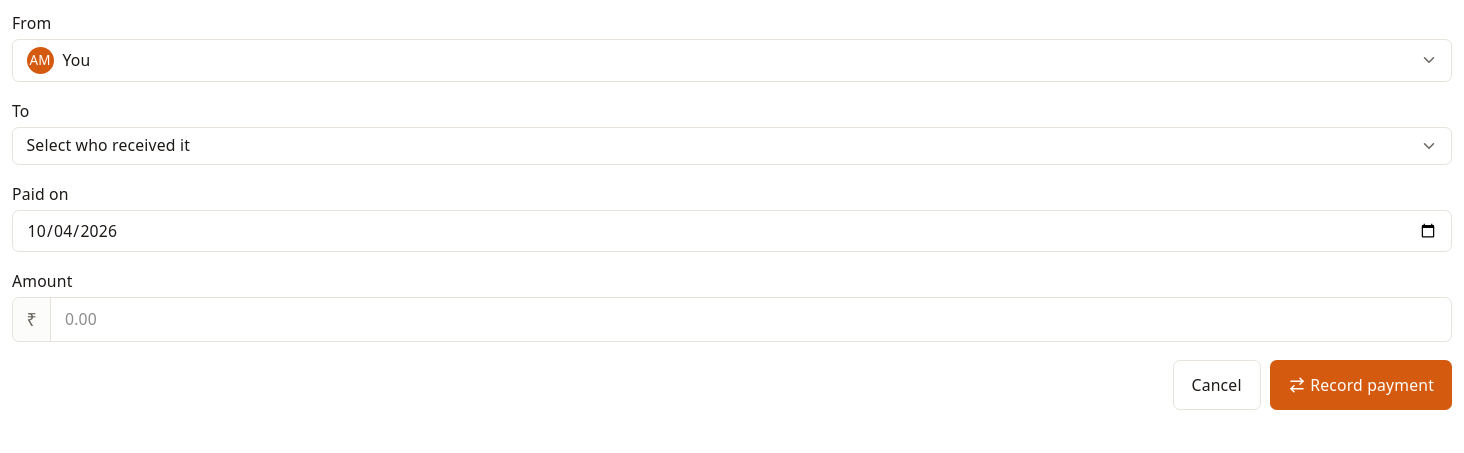
Test: RecordPaymentForm › rejects amounts with unsupported currency precision
Click the button with aria-label "To".
click(108, 145)  # box [12,126,1452,164]
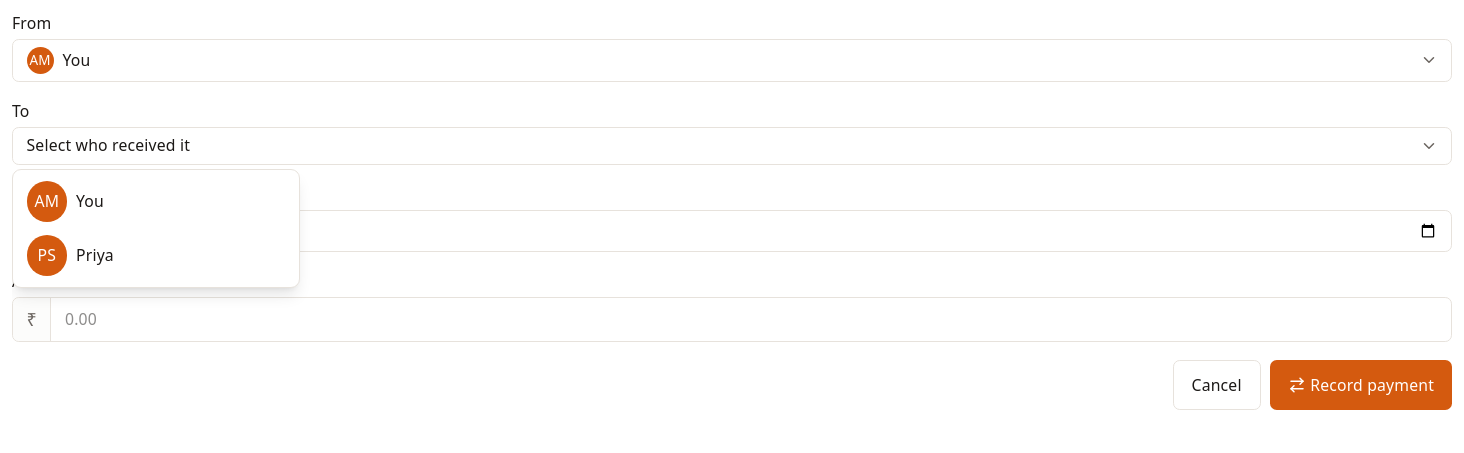
Click the menu item with aria-label "priya sharma".
click(47, 256)  # box [26,235,114,276]
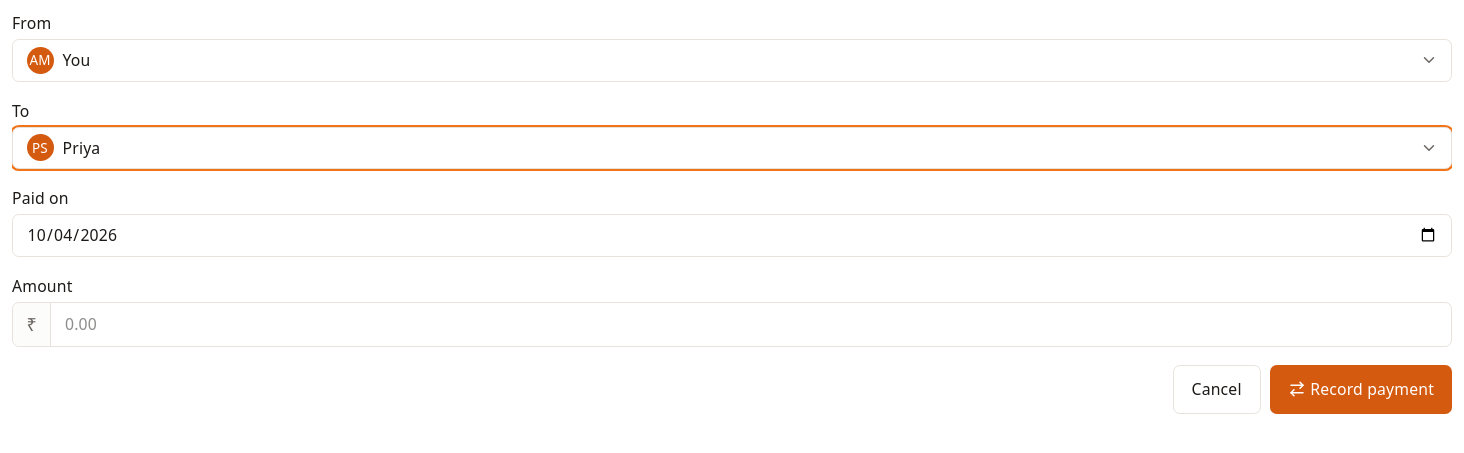
Type "1.001" into the number field labelled "Amount".
click(751, 324); type("1.001")  # box [52,302,1451,346]
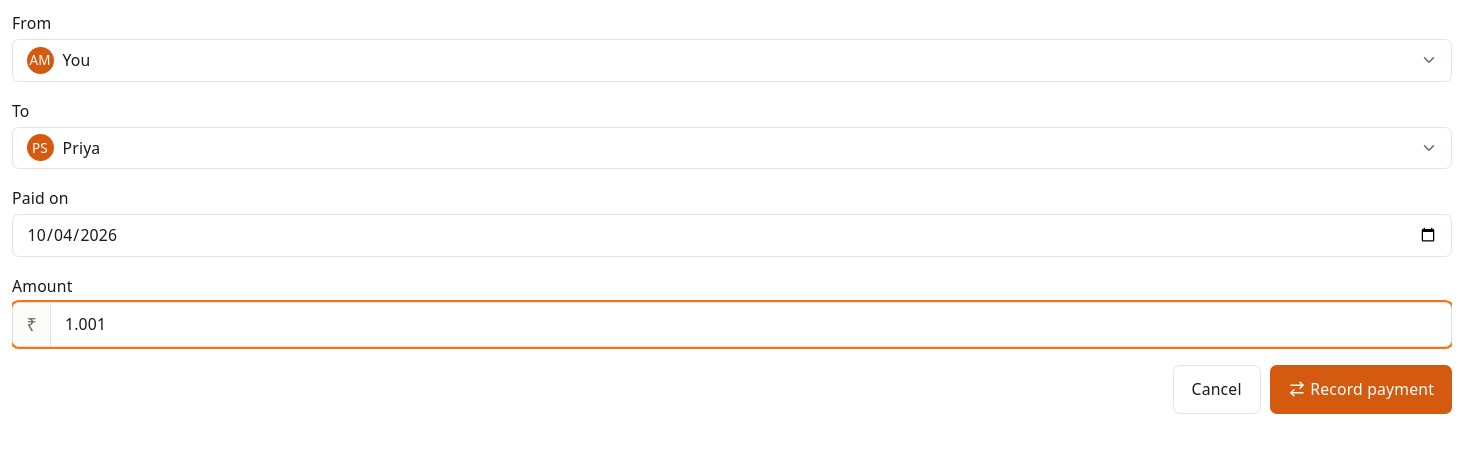
Click the button "Record payment".
click(1361, 389)  # box [1270,364,1452,414]
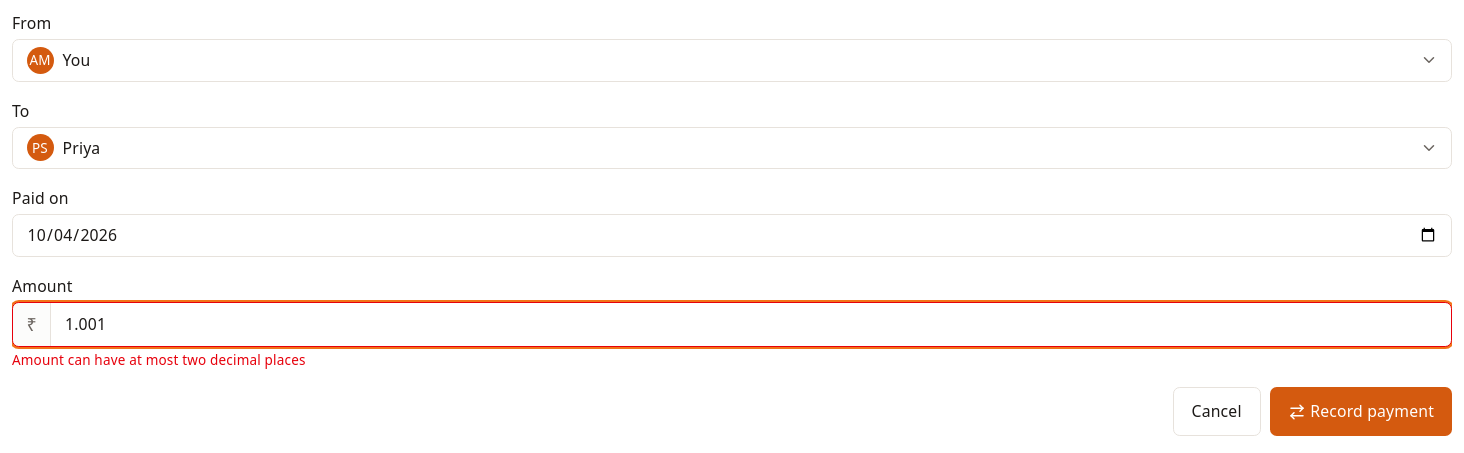
Result: the text "Amount can have at most two decimal places" is shown at [12,351,306,369]
